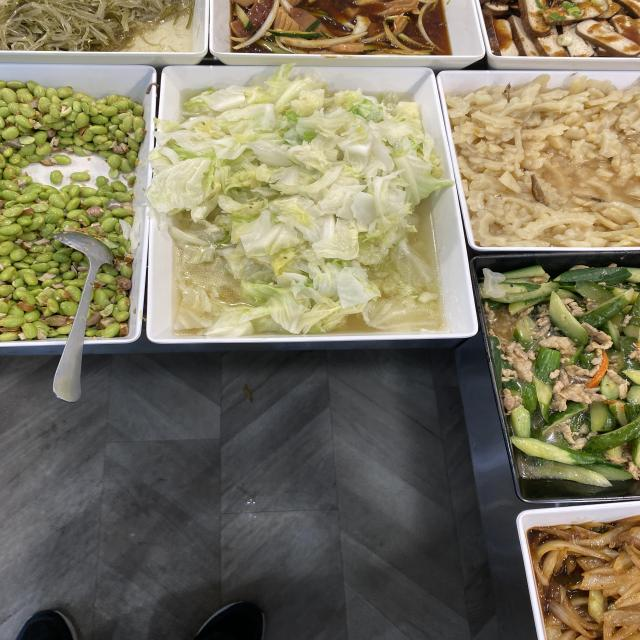cabbage: (191, 103, 420, 308)
